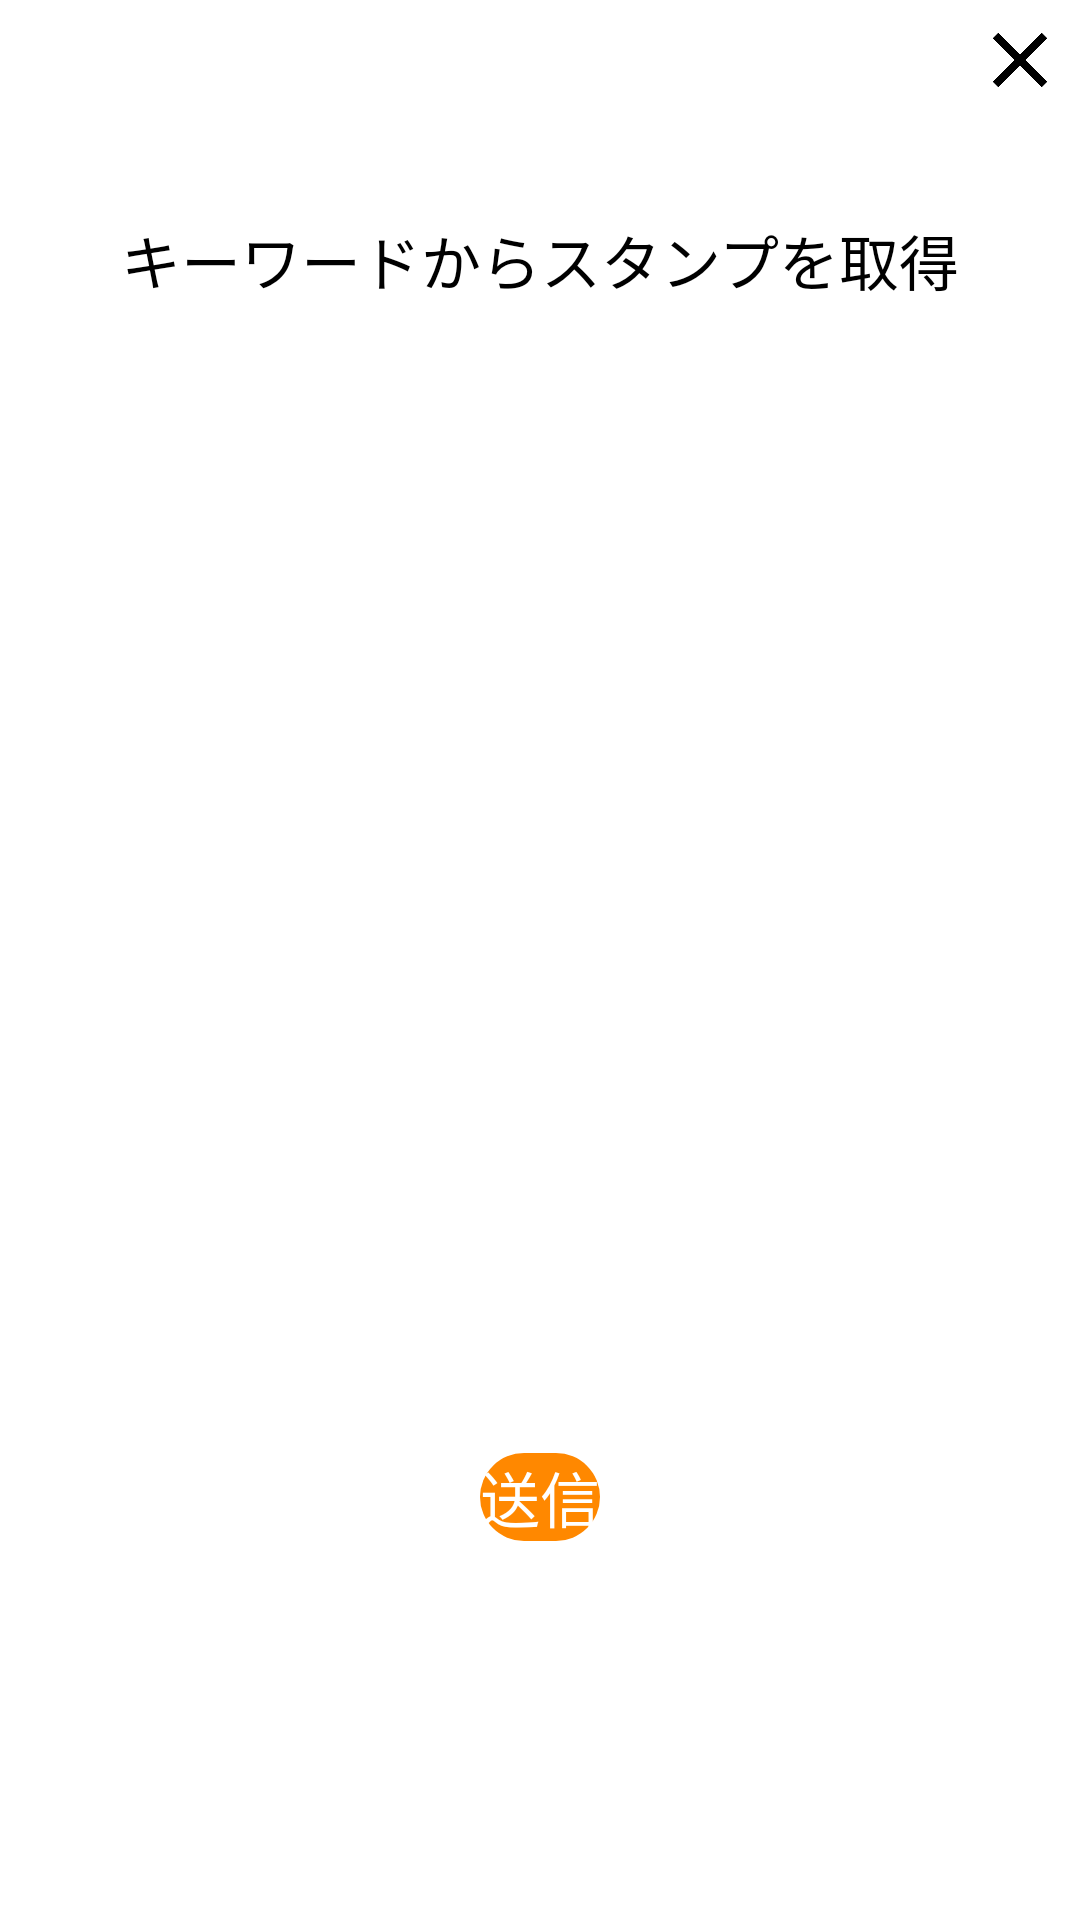

Icons on this 1080w x 1920h Android screen, each with the point to tap as point (x, y):
close: point (1020, 60)
